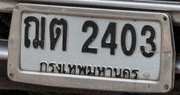txt09: (22, 15, 46, 49)
txt16: (48, 17, 68, 52)
